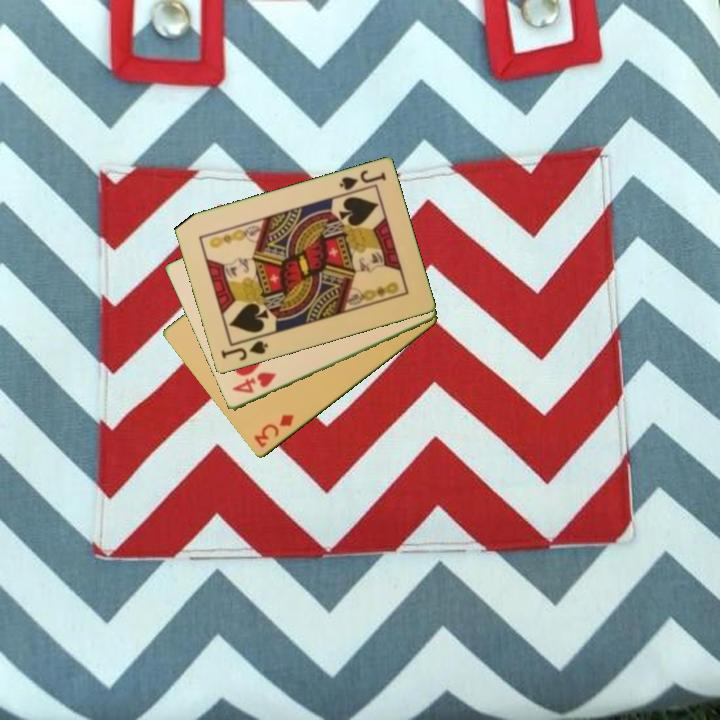3d: (250, 411, 297, 451)
4h: (228, 369, 279, 397)
Js: (217, 337, 271, 364), (336, 167, 389, 194)
